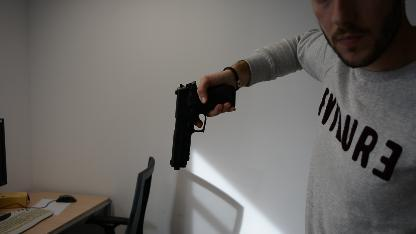pistol: (168, 80, 236, 170)
